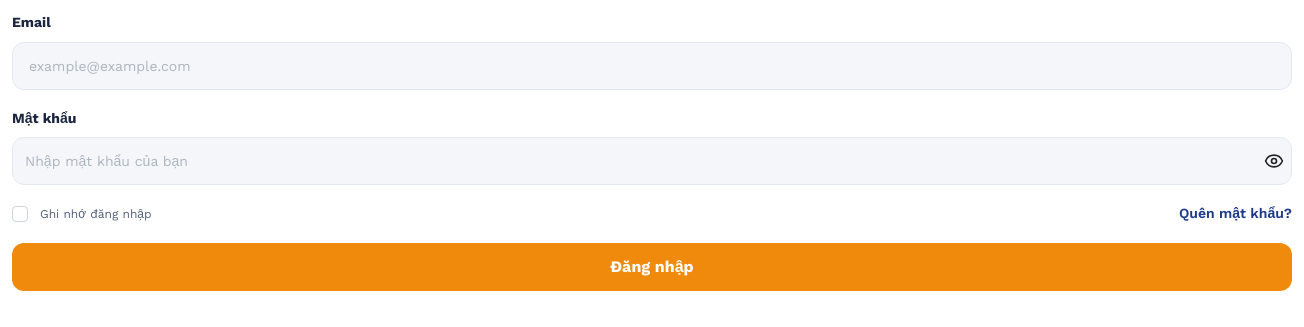
LoginForm › rejects the forgot password click without a valid email
Click the button "Quên mật khẩu?" at (1235, 214), box [1179, 203, 1292, 225]
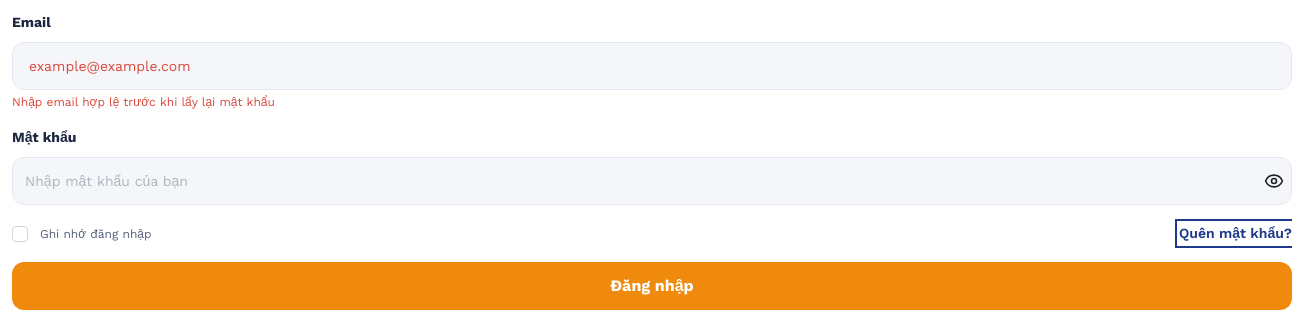
Expected: the text "Nhập email hợp lệ trước khi lấy lại mật khẩu" is shown, [12, 95, 275, 109]
